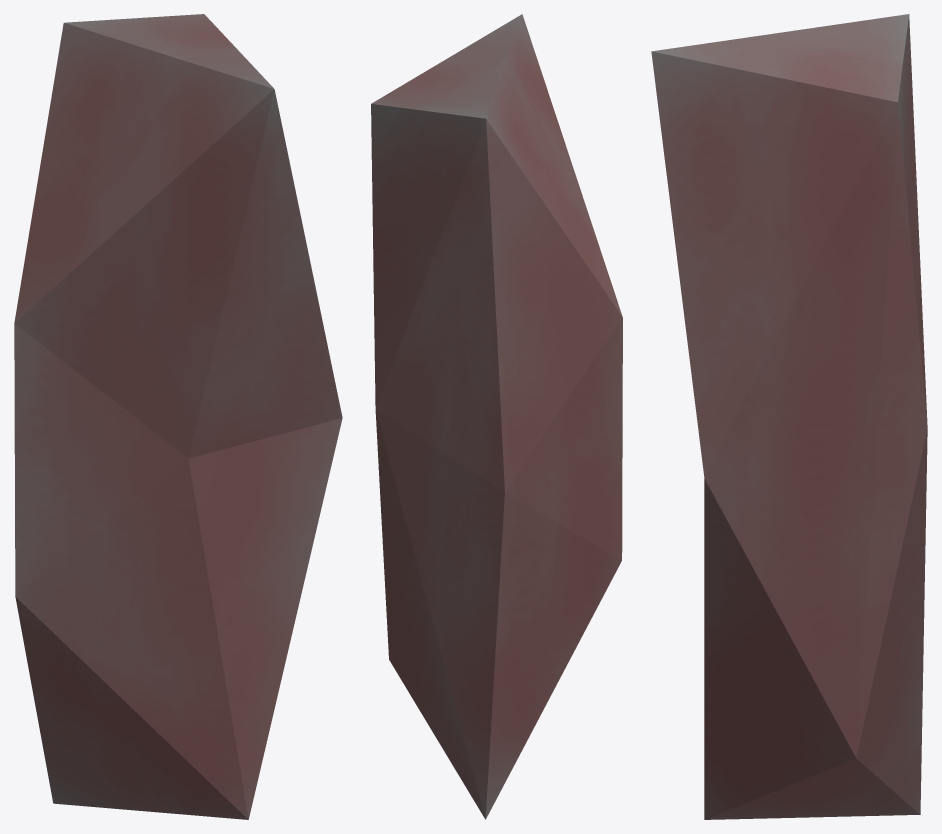
Rendered from Sulfate.fbx.
3 views of the same model, side by side, from view 1: azimuth 30°, elevation 25°; view 2: azimuth 150°, elevation 25°; view 3: azimuth 270°, elevation 25° (orthographic). The views are drawn at different scales.
Visible parts, largest first — view 1: Sulfate; view 2: Sulfate; view 3: Sulfate.
Boxes of the visible parts, bbox=[...] form: Sulfate: bbox=[14, 14, 342, 819]; Sulfate: bbox=[371, 14, 622, 819]; Sulfate: bbox=[651, 14, 927, 819].
Size of the model in its own units: 23.1 by 62.04 by 19.22.
1 material, 1 textured.
